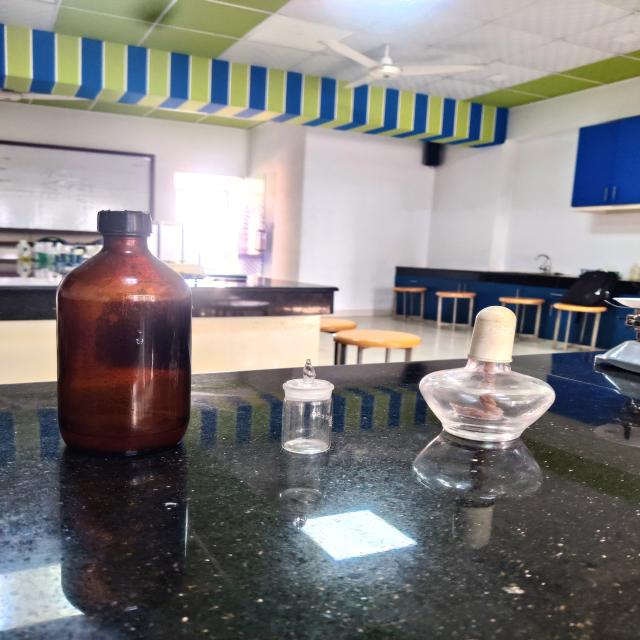Nessler_Reagent_Bottle: (41, 189, 230, 475)
Spirit_Lamp: (395, 293, 582, 464)
Weighing_Bottle: (263, 349, 354, 469)
